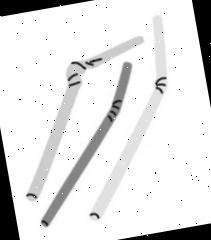general: (34, 57, 138, 231)
